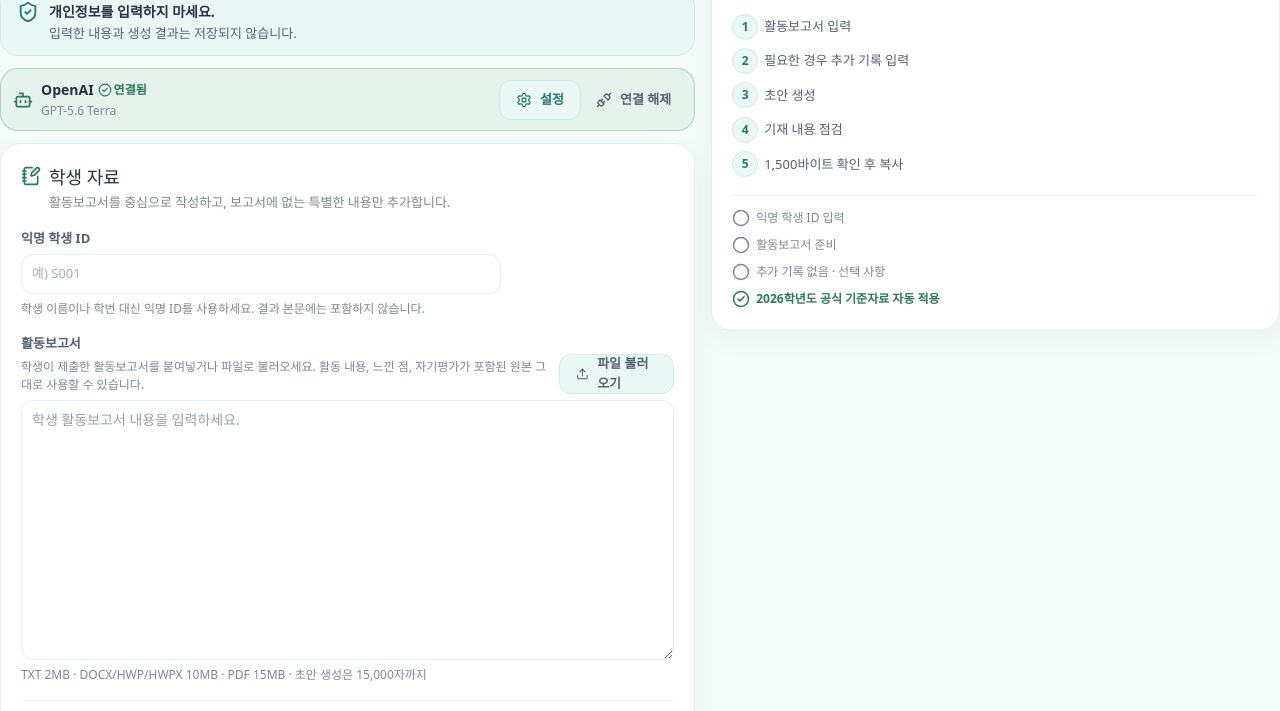
AiDocumentWriter guideline application › ignores an in-flight result after the active guideline is deleted
This screenshot has width=1280, height=711.
Step 1. Type "S001" into the field labelled "익명 학생 ID 학생 이름이나 학번 대신 익명 ID를 사용하세요. 결과 본문에는 포함하지 않습니다." → (261, 274), box [21,254,501,294]
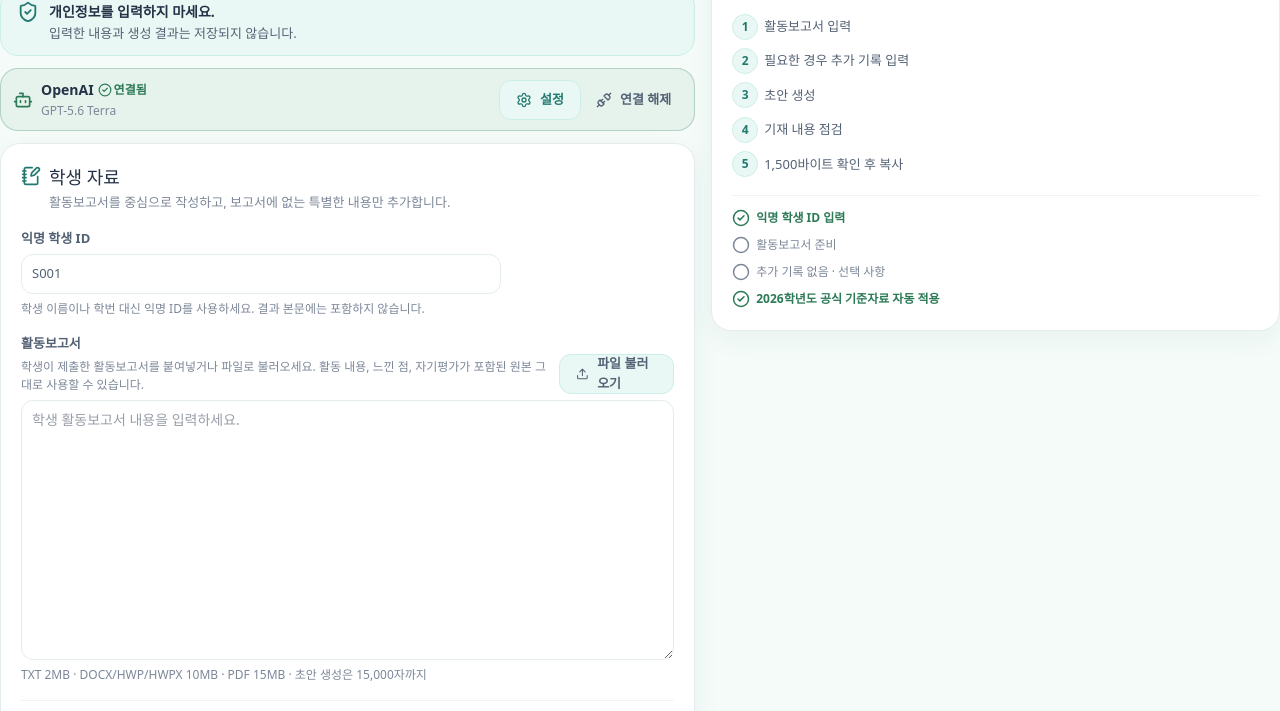
Step 2. Type "건강 캠페인 자료를 조사하고 발표함" into the text box labelled "활동보고서" → (348, 530), box [21,400,674,660]
(page scrolled)
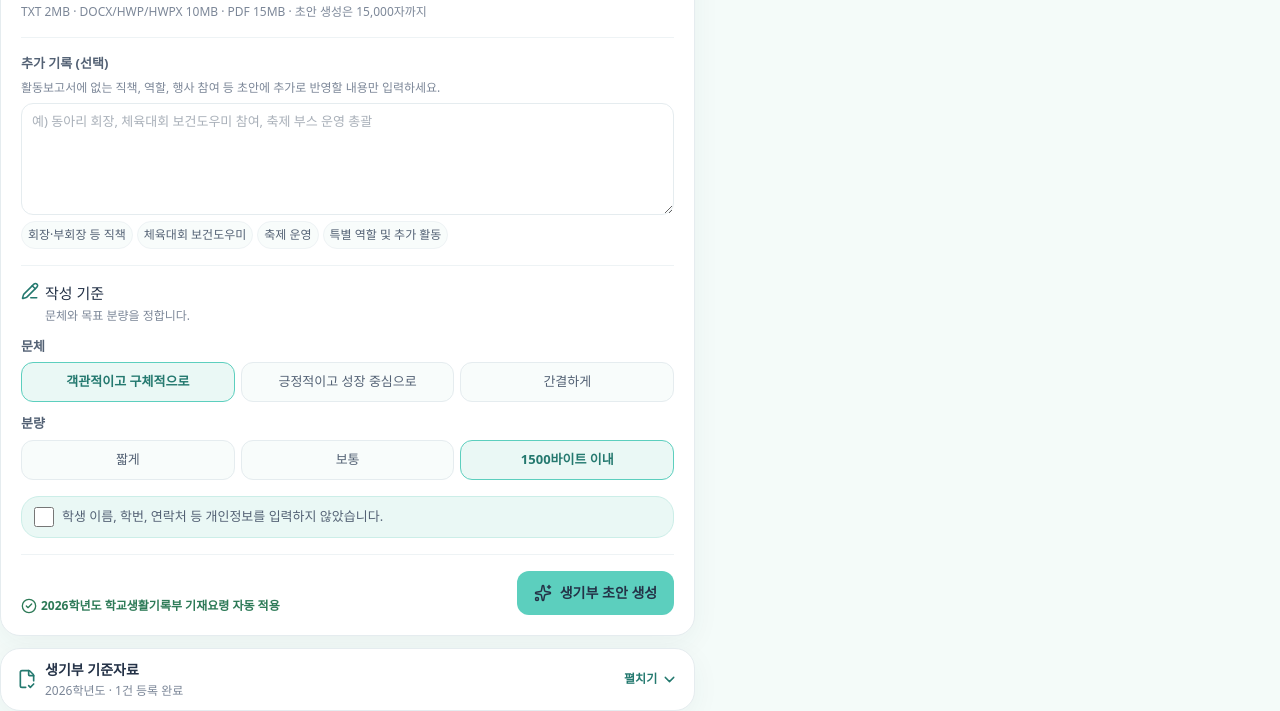
Step 3. Click the checkbox labelled "학생 이름, 학번, 연락처 등 개인정보를 입력하지 않았습니다." → (44, 517), box [34,507,54,527]
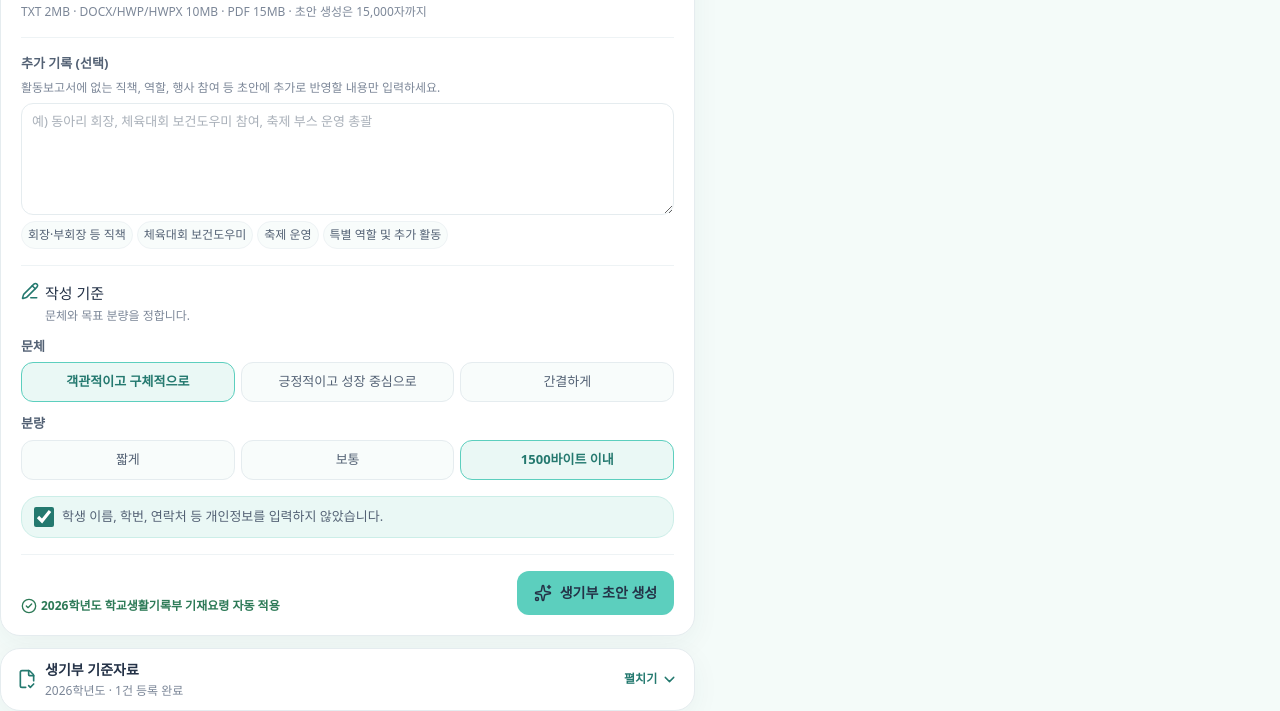
Step 4. Click the button "생기부 초안 생성" → (595, 593), box [517,571,674,615]
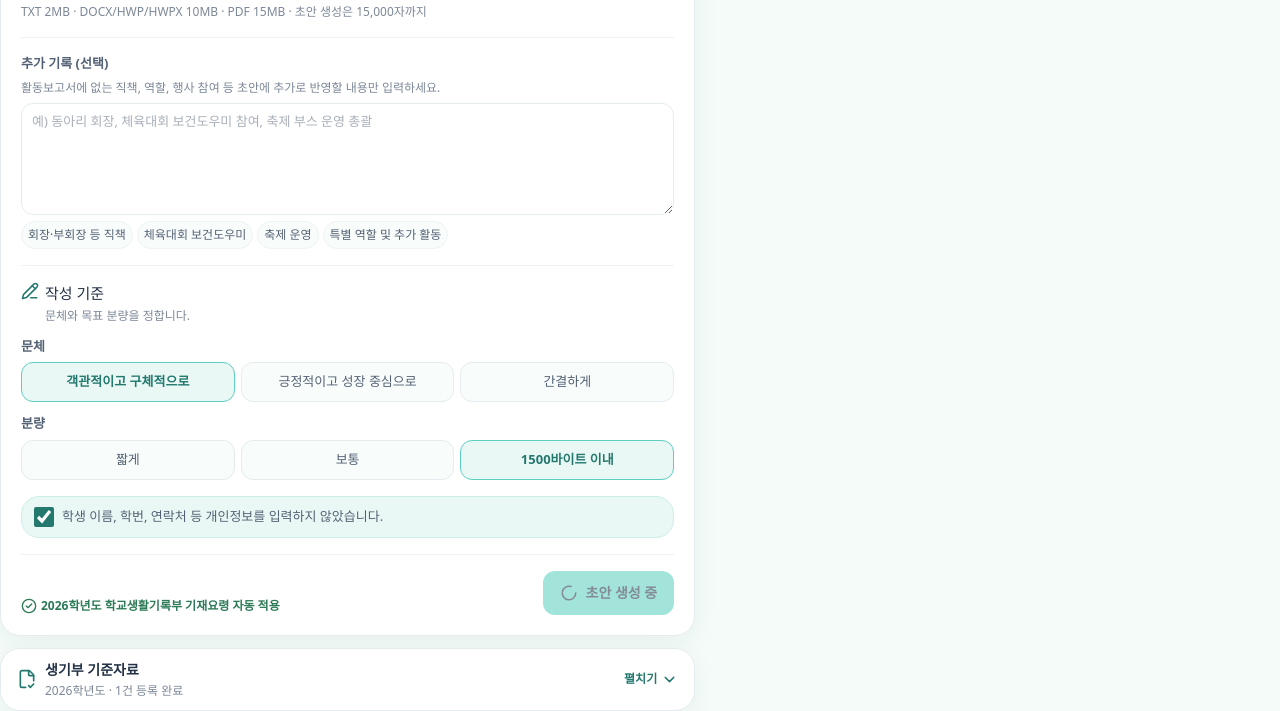
Step 5. Click the text "생기부 기준자료" → (92, 669), box [45,660,139,679]
(page scrolled)
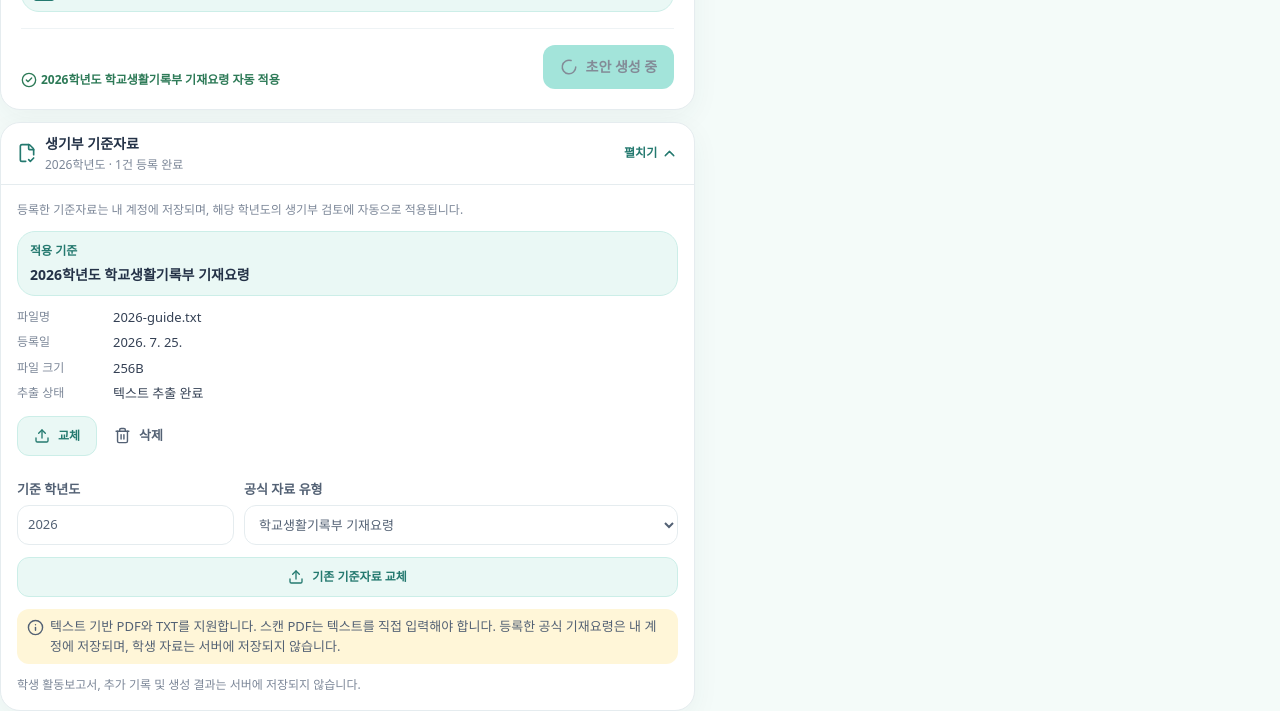
Step 6. Click the button with aria-label "학교생활기록부 기재요령 삭제" → (139, 436), box [103,416,174,456]
(page scrolled)
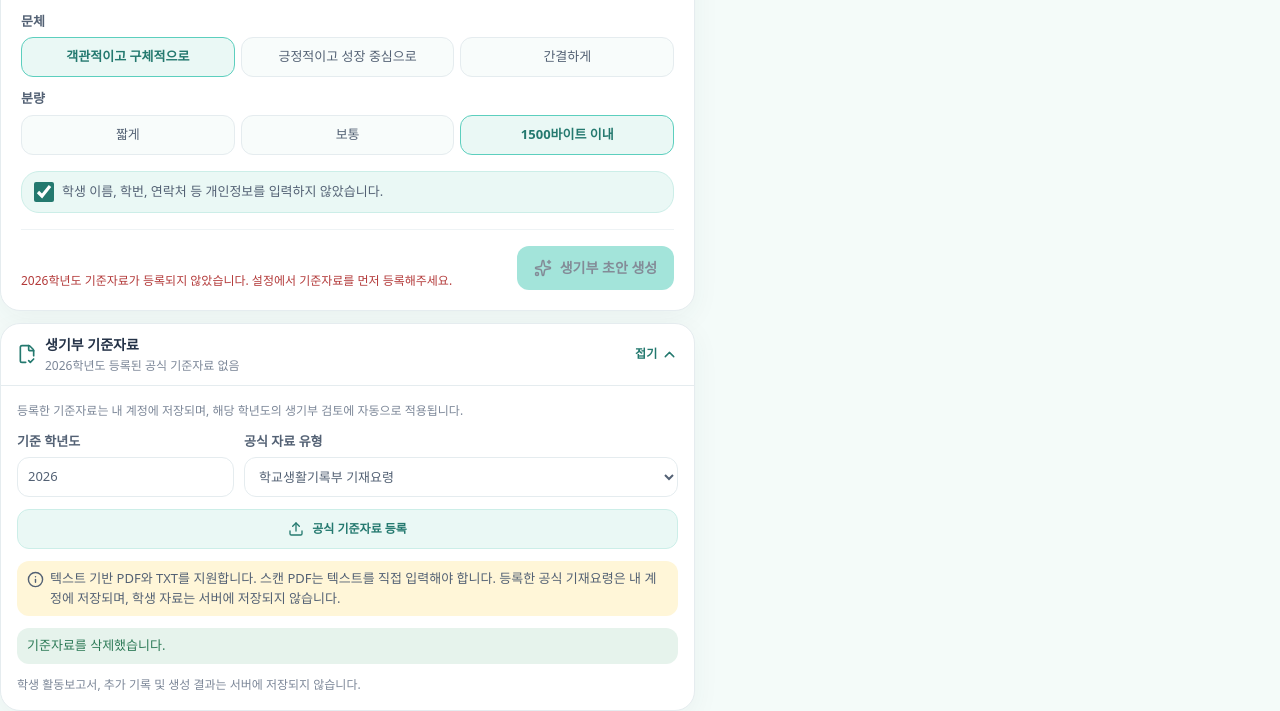
expect the button "생기부 초안 생성" is disabled: met, box [517,246,674,290]
expect the text "2026학년도 기준자료가 등록되지 않았습니다. 설정에서 기준자료를 먼저 등록해주세요." is shown: met, box [21,272,452,290]
